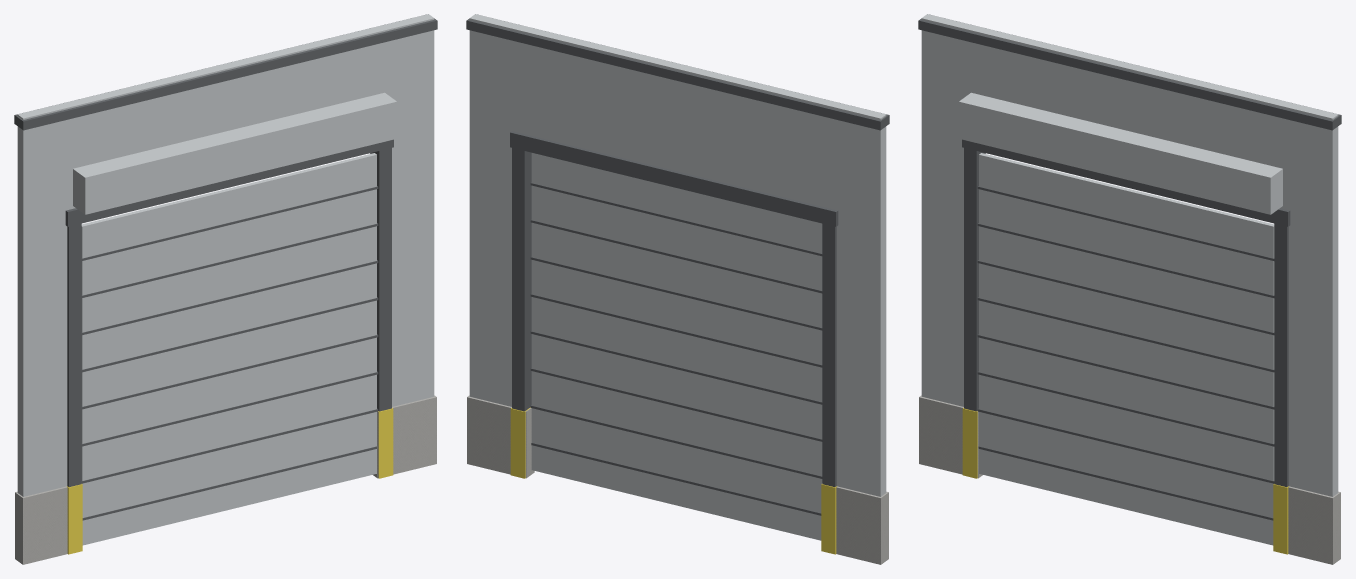
The model's file is hall-roller-shutter-door-bay.glb.
The picture shows the model from 3 angles, left to right: view 1: azimuth 30°, elevation 25°; view 2: azimuth 150°, elevation 25°; view 3: azimuth 330°, elevation 25°; orthographic projection.
Visible parts, largest first — view 1: machine-shop-and-factory-hall-hall-shutter-bay, shutter/cast, shutter/charcoal; view 2: machine-shop-and-factory-hall-hall-shutter-bay, shutter/cast, shutter/charcoal; view 3: machine-shop-and-factory-hall-hall-shutter-bay, shutter/cast, shutter/charcoal.
Part boxes in pixels (x1,y1,x2,y2): machine-shop-and-factory-hall-hall-shutter-bay: (14, 14, 437, 564); shutter/cast: (81, 153, 376, 545); shutter/charcoal: (81, 186, 378, 520); machine-shop-and-factory-hall-hall-shutter-bay: (466, 14, 889, 564); shutter/cast: (531, 153, 822, 540); shutter/charcoal: (530, 182, 822, 515); machine-shop-and-factory-hall-hall-shutter-bay: (918, 14, 1341, 564); shutter/cast: (979, 153, 1274, 545); shutter/charcoal: (977, 186, 1274, 520).
Bounding box in the file's own units: 5.84 × 6 × 0.4902.
Materials: 4 (1 with a texture image).
